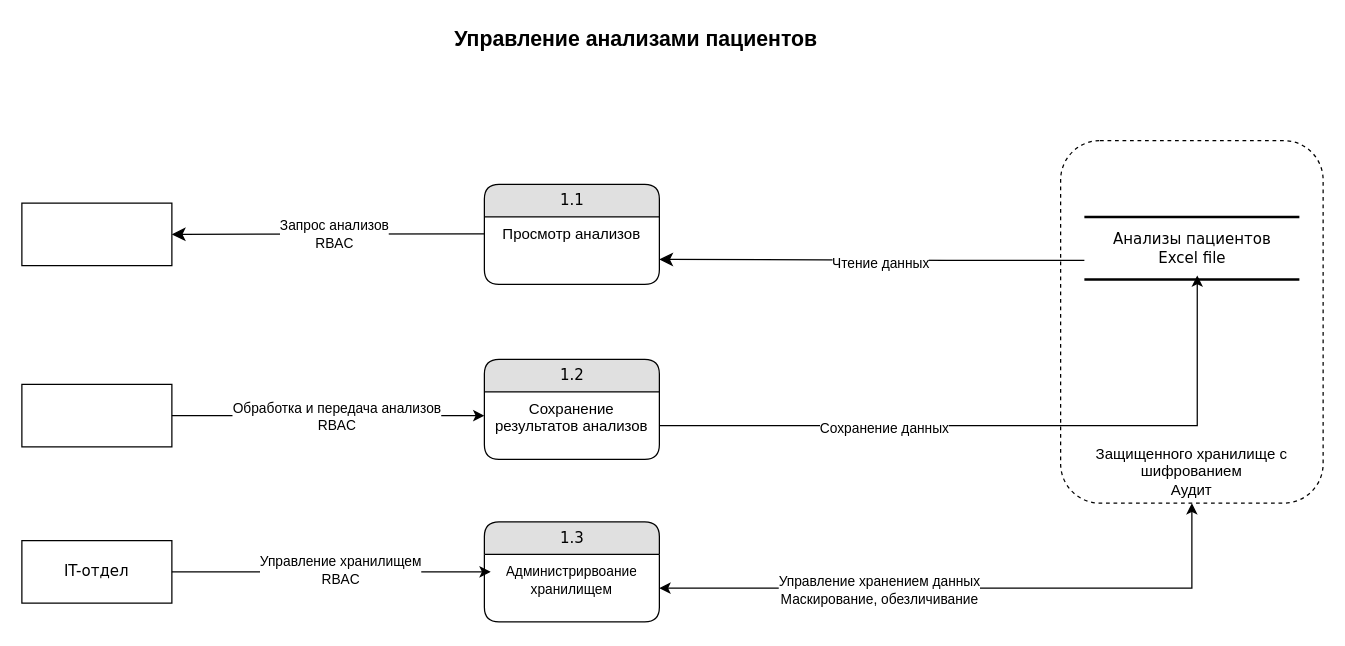
The diagram is 1345 pixels wide and 646 high, and some of its shapes have lost their labels. Here are the shapes that lost their labels. From the top down, the centre of each, then its label:
At point 96,234: "Доктор".
At point 96,415: "Лаборатория".
